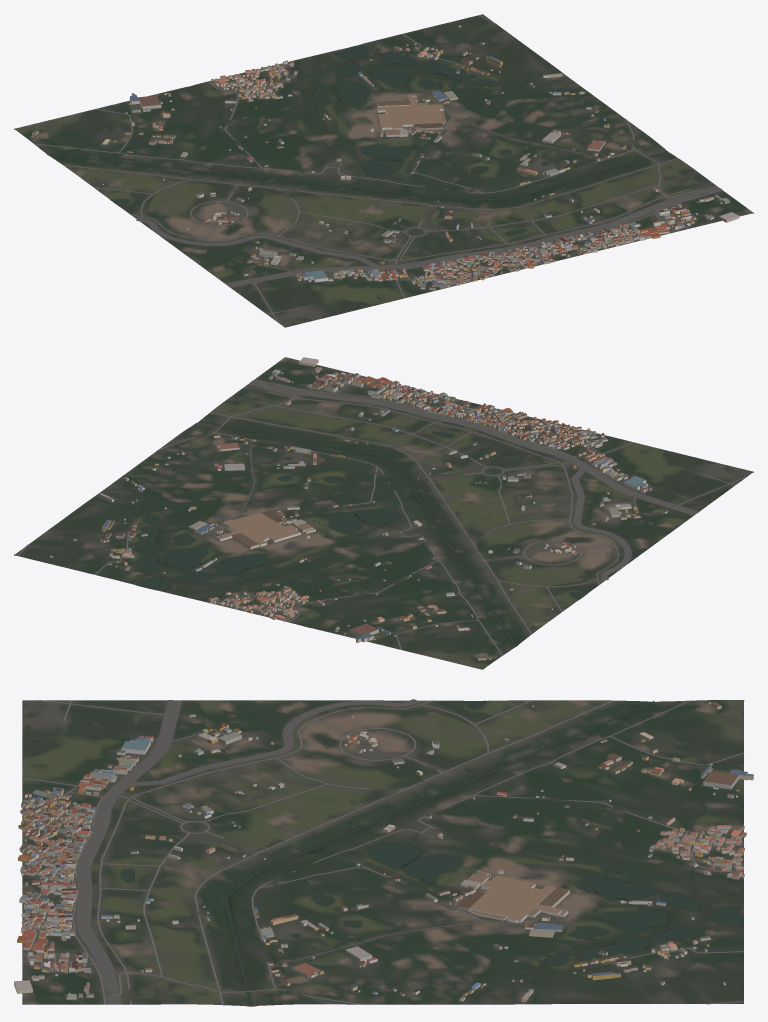
3 views of the same model, one above another, from view 1: azimuth 30°, elevation 25°; view 2: azimuth 150°, elevation 25°; view 3: azimuth 270°, elevation 25° (orthographic). The views are drawn at different scales.
Parts seen in each view (by area): view 1: ground, buildings, roads, water; view 2: ground, buildings, roads, water; view 3: ground, buildings, roads, water.
Boxes of the visible parts, x1,y1,x2,y2 form: ground: (14,14,753,327); buildings: (31,25,739,290); roads: (34,15,722,322); water: (47,45,668,235); ground: (14,357,753,669); buildings: (50,357,667,660); roads: (17,373,747,655); water: (129,421,585,646); ground: (22,700,744,1006); buildings: (14,701,753,1002); roads: (21,699,744,1004); water: (120,700,743,1006).
Size of the model in its own units: 1408 by 20.95 by 1437.
